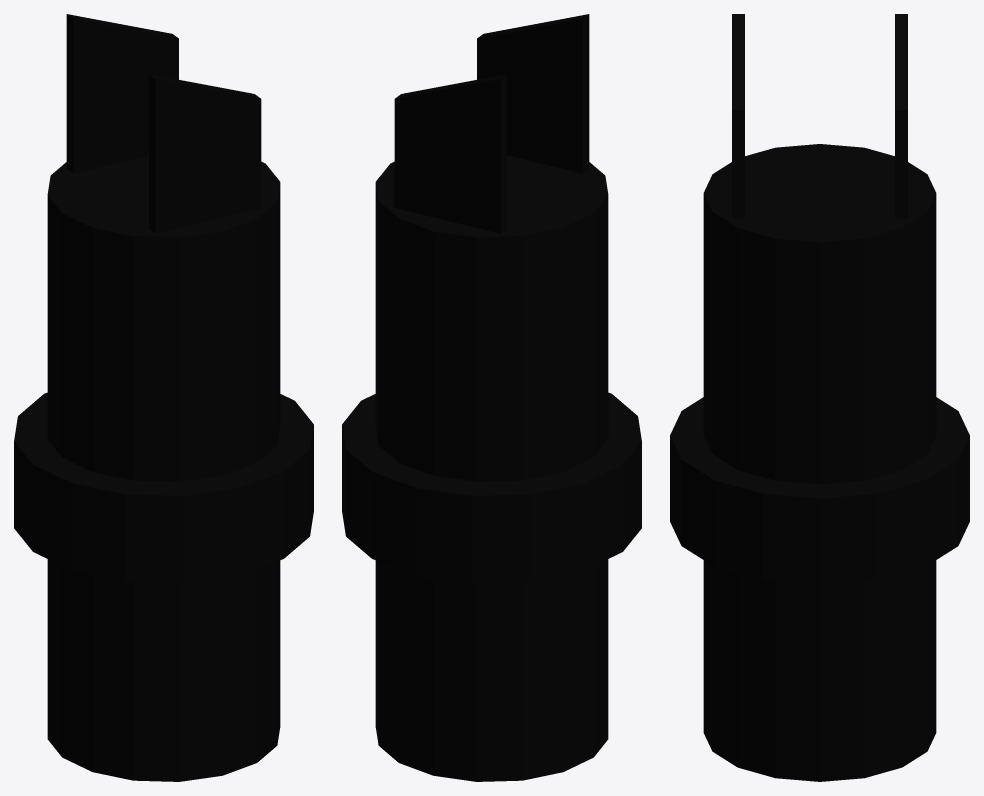
The model's file is JTV Utility Car Turret.obj.
3 views of the same model, side by side, from view 1: azimuth 30°, elevation 25°; view 2: azimuth 150°, elevation 25°; view 3: azimuth 270°, elevation 25° (orthographic).
Parts seen in each view (by area): view 1: JTV-Turret_Cylinder.001; view 2: JTV-Turret_Cylinder.001; view 3: JTV-Turret_Cylinder.001.
Part boxes in pixels (left/top/right/bottom): JTV-Turret_Cylinder.001: left=14, top=14, right=313, bottom=781; JTV-Turret_Cylinder.001: left=342, top=14, right=641, bottom=781; JTV-Turret_Cylinder.001: left=670, top=14, right=969, bottom=781.
Bounding box in the file's own units: 0.8243 × 2.1 × 0.8243.
